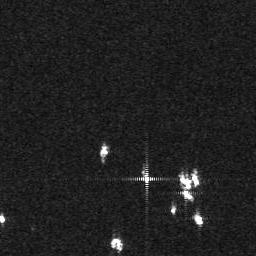ship: (178, 174, 194, 191), (192, 210, 204, 227), (180, 188, 195, 201), (99, 144, 110, 159), (191, 172, 200, 188)
